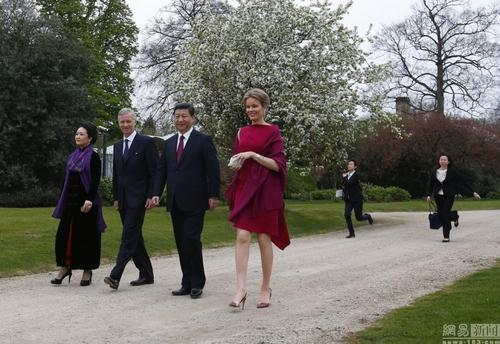up: (224, 84, 296, 312), (148, 99, 220, 302), (102, 103, 161, 291), (50, 122, 110, 285), (426, 150, 483, 244), (334, 156, 377, 243)
